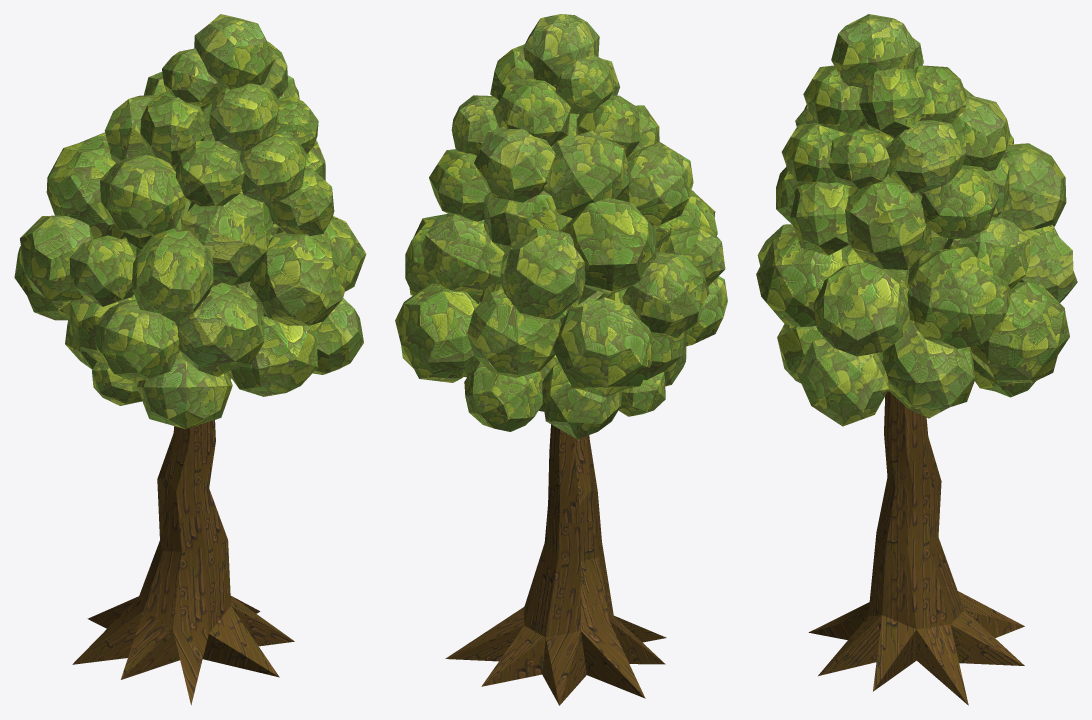
File: StylisedTree4.fbx
3 views of the same model, side by side, from view 1: azimuth 30°, elevation 25°; view 2: azimuth 150°, elevation 25°; view 3: azimuth 270°, elevation 25° (orthographic). The views are drawn at different scales.
Parts seen in each view (by area): view 1: Tree4; view 2: Tree4; view 3: Tree4.
Boxes of the visible parts, x1,y1,x2,y2 form: Tree4: [14, 14, 366, 705]; Tree4: [395, 14, 727, 705]; Tree4: [756, 14, 1077, 705].
Size of the model in its own units: 3.72 by 7.79 by 3.49.
